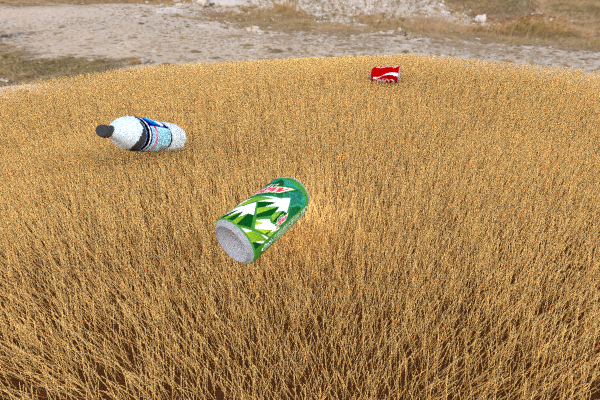bottle: (95, 116, 186, 151)
can: (215, 176, 309, 263), (369, 66, 400, 82)
